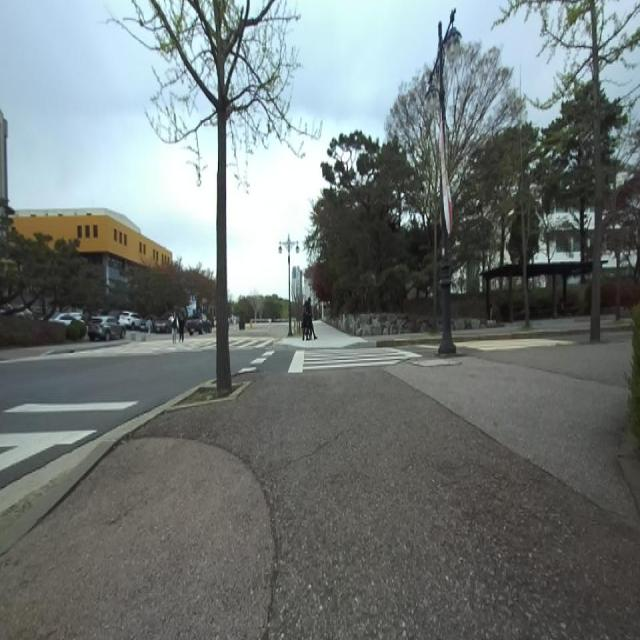sidewalk: (0, 337, 640, 638), (0, 387, 198, 555), (282, 320, 366, 348)
